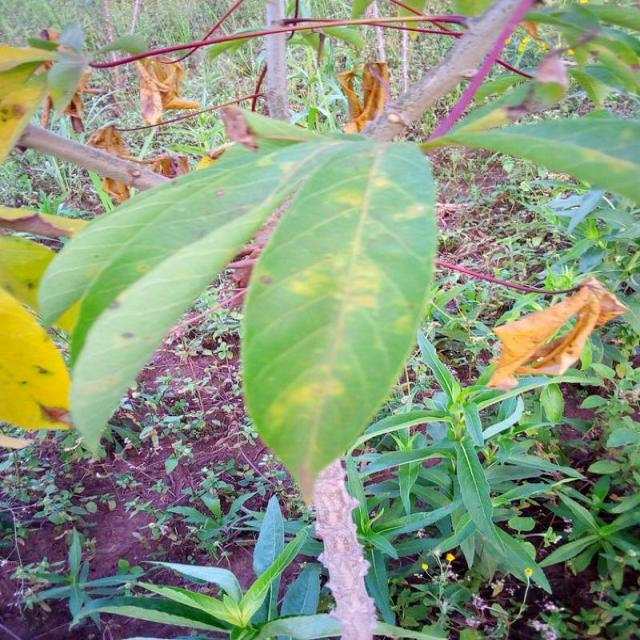cassava leaf: (37, 124, 437, 506), (239, 137, 437, 506)
